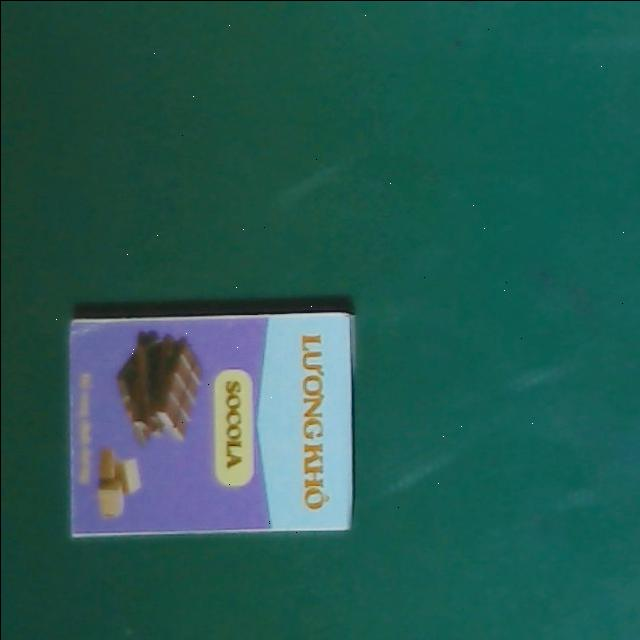socola: (66, 313, 356, 535)
